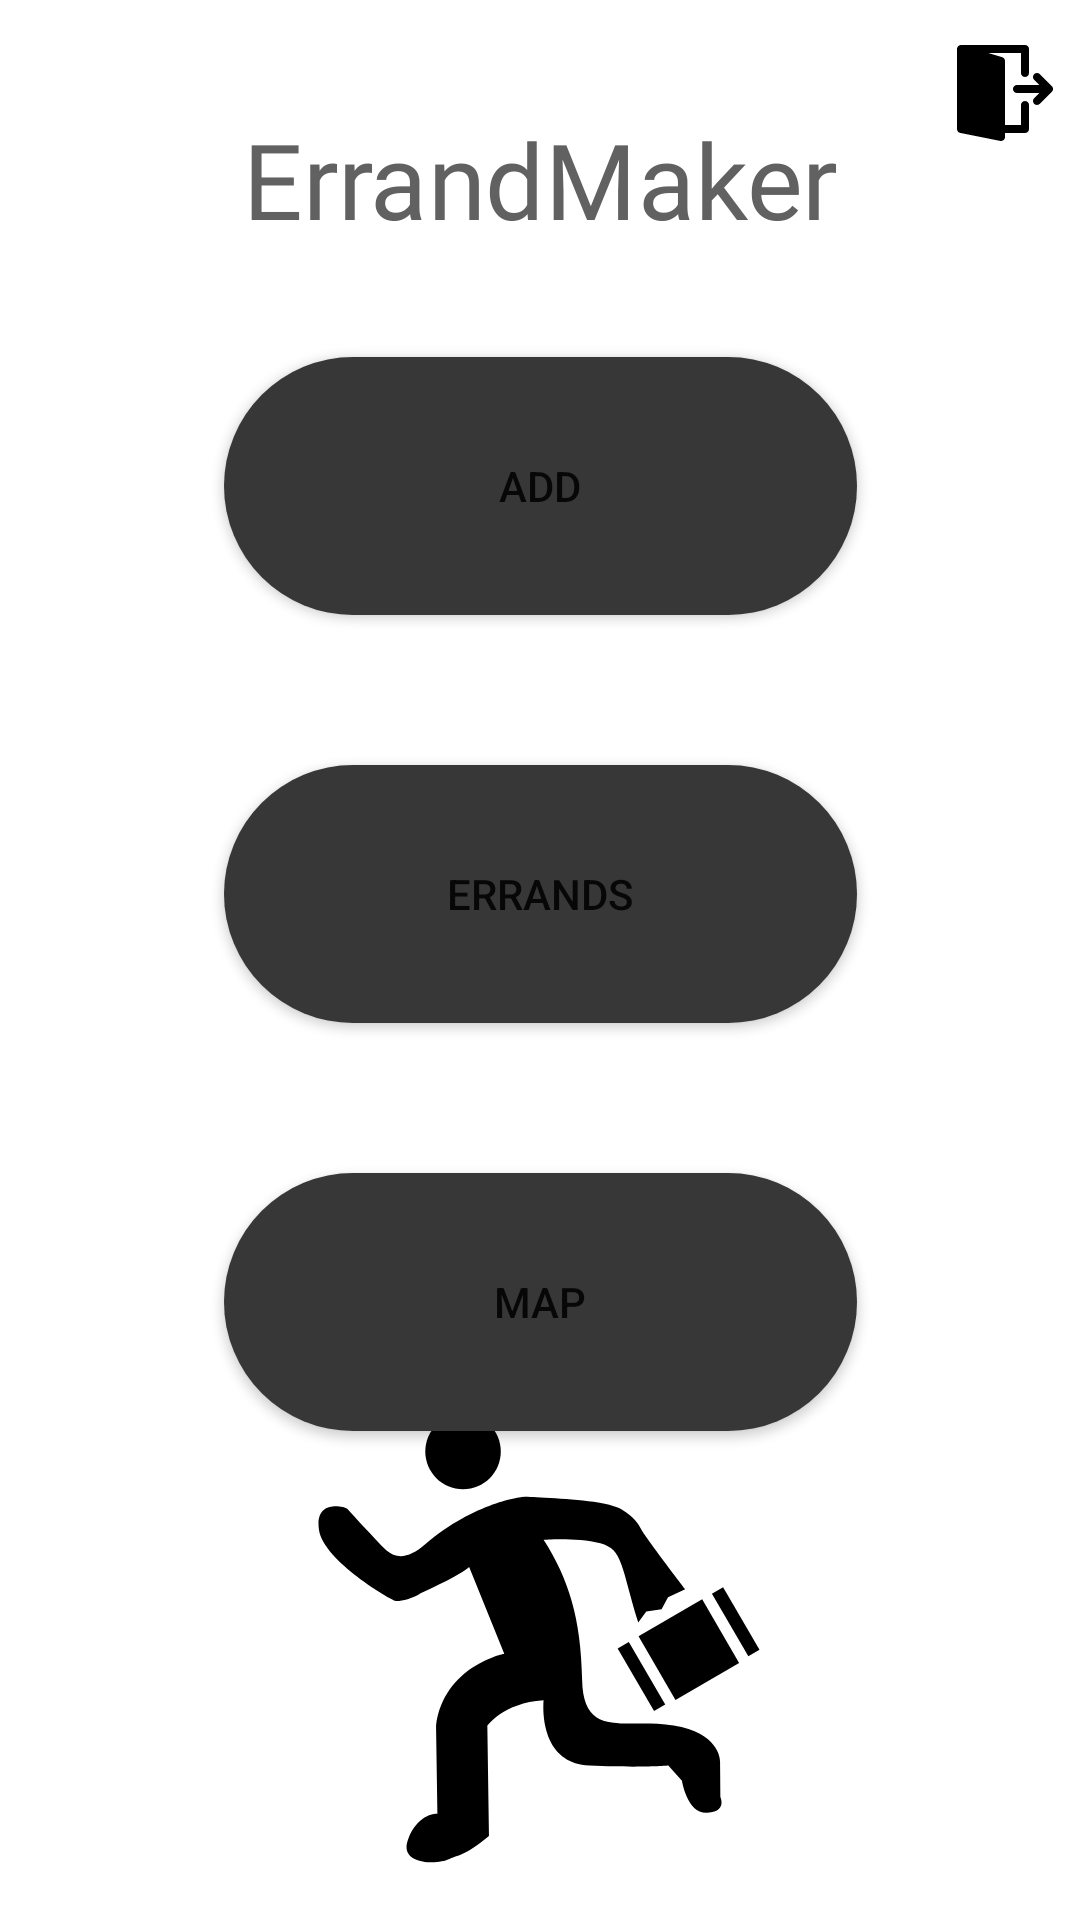

Point at icon controls on the screen. Image size 1080x1920, points as [x,y].
exit: [1005,93]
